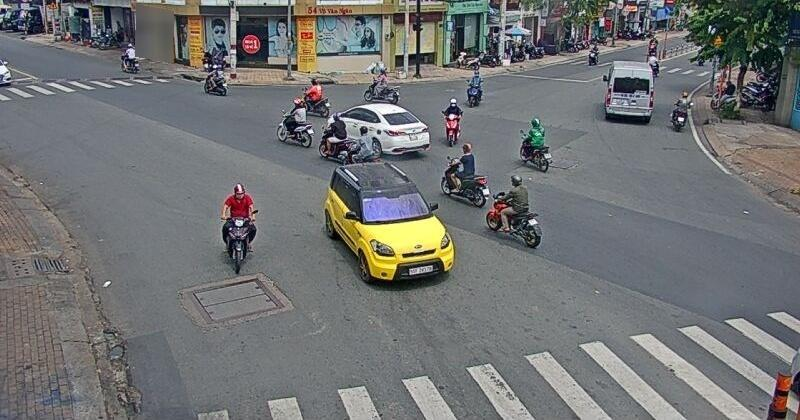xe hoi: (322, 160, 453, 283), (327, 103, 429, 154)
xe may: (485, 174, 542, 250), (221, 183, 258, 274), (440, 143, 489, 208), (275, 98, 314, 148), (518, 117, 551, 174), (363, 68, 400, 104), (301, 78, 330, 117), (441, 97, 463, 144), (670, 91, 693, 132), (465, 71, 482, 107)
xe van: (604, 60, 653, 119)
